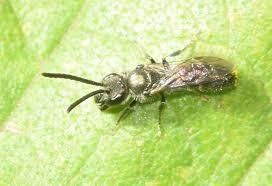Lasioglossum: (41, 51, 243, 124)
